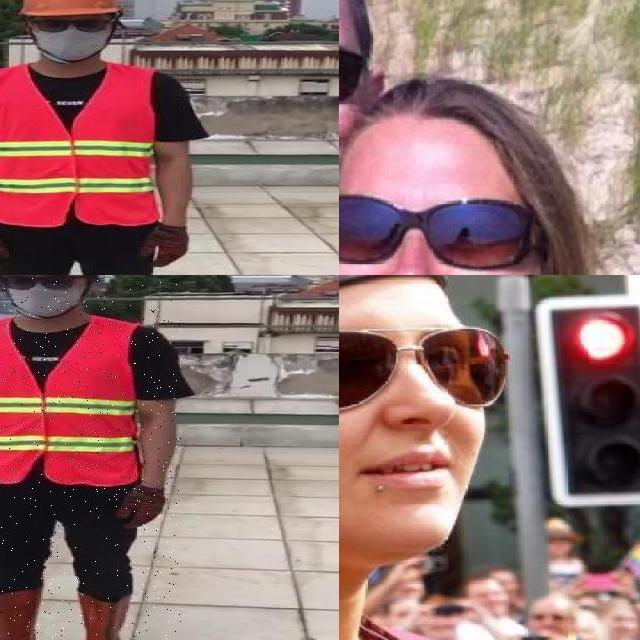boots: (75, 591, 137, 640), (0, 588, 39, 640)
face_mask: (29, 15, 113, 62)
face_nomask: (339, 314, 473, 523), (339, 187, 548, 275)
glasses: (339, 190, 528, 275), (339, 325, 502, 422), (24, 14, 118, 36)
hand_glove: (139, 226, 192, 268), (0, 224, 14, 270)
head_helmet: (21, 0, 124, 19)
head_nohelmet: (339, 73, 560, 164)
person: (0, 275, 181, 640), (0, 0, 196, 275)
vest: (0, 64, 163, 224), (0, 317, 140, 487)
